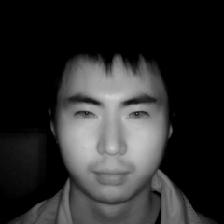normal: (38, 29, 176, 205)
